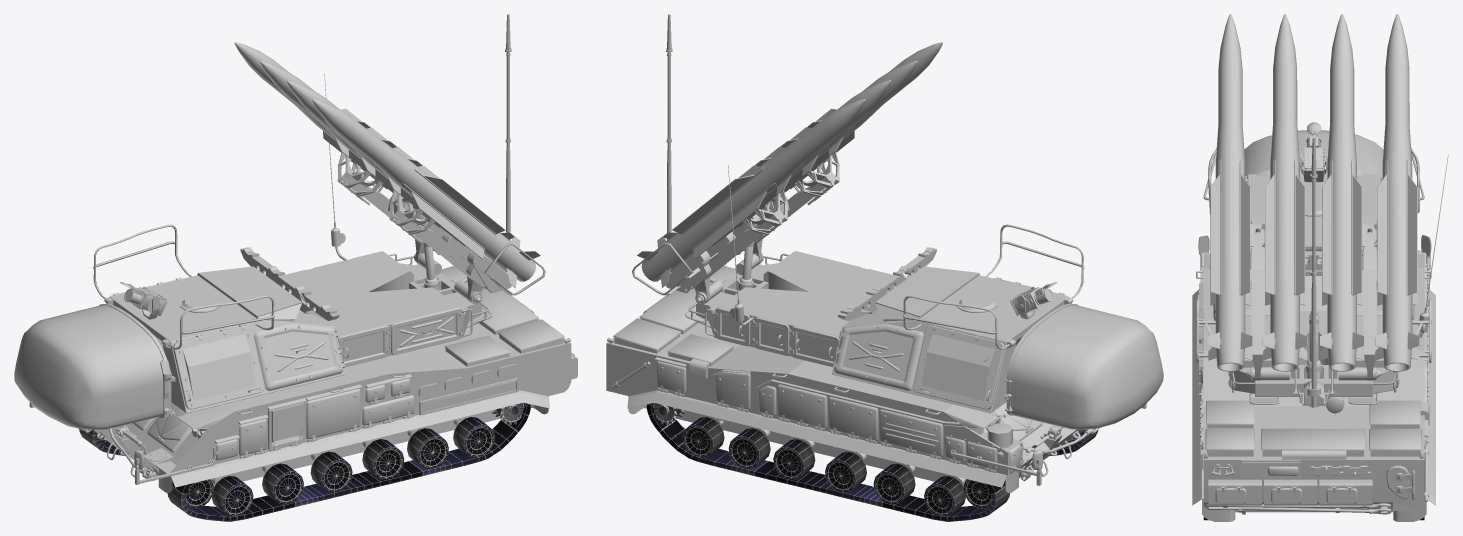
3 views of the same model, side by side, from view 1: azimuth 30°, elevation 25°; view 2: azimuth 150°, elevation 25°; view 3: azimuth 270°, elevation 25° (orthographic). The views are drawn at different scales.
Parts seen in each view (by area): view 1: 1Head, 0Base, 3Rocket_01, 2RocketBody, Gusenitsa, 3Rocket_02, 3Rocket_03, 3Rocket_04, Gusenitsa_Elements6, Gusenitsa_Elements7, Gusenitsa_Elements5, Gusenitsa_Elements8 (+4 smaller); view 2: 1Head, 0Base, 3Rocket_04, 2RocketBody, Gusenitsa, 3Rocket_03, 3Rocket_02, 3Rocket_01, Gusenitsa_Elements15, Gusenitsa_Elements16, Gusenitsa_Elements18, Gusenitsa_Elements17 (+4 smaller); view 3: 0Base, 1Head, 3Rocket_04, 3Rocket_01, 3Rocket_02, 3Rocket_03, 2RocketBody, 4Antenna, 3AntennaBody.
Part boxes in pixels (box(x1,y1,x2,y2)): 1Head: box(14, 73, 492, 429); 0Base: box(29, 266, 577, 492); 3Rocket_01: box(312, 99, 540, 287); 2RocketBody: box(337, 152, 545, 303); Gusenitsa: box(79, 403, 530, 521); 3Rocket_02: box(286, 80, 514, 260); 3Rocket_03: box(260, 61, 426, 217); 3Rocket_04: box(234, 42, 404, 202); Gusenitsa_Elements6: box(310, 451, 352, 492); Gusenitsa_Elements7: box(362, 439, 404, 479); Gusenitsa_Elements5: box(262, 463, 303, 504); Gusenitsa_Elements8: box(407, 428, 448, 469); 1Head: box(685, 165, 1163, 429); 0Base: box(606, 265, 1146, 492); 3Rocket_04: box(637, 99, 865, 287); 2RocketBody: box(632, 152, 840, 303); Gusenitsa: box(646, 403, 1098, 521); 3Rocket_03: box(663, 80, 891, 260); 3Rocket_02: box(751, 60, 917, 217); 3Rocket_01: box(773, 42, 942, 201); Gusenitsa_Elements15: box(873, 463, 915, 504); Gusenitsa_Elements16: box(825, 451, 866, 492); Gusenitsa_Elements18: box(728, 428, 770, 469); Gusenitsa_Elements17: box(773, 439, 815, 479); 0Base: box(1192, 235, 1435, 521); 1Head: box(1203, 122, 1448, 414); 3Rocket_04: box(1375, 14, 1419, 371); 3Rocket_01: box(1208, 14, 1252, 371); 3Rocket_02: box(1262, 14, 1307, 371); 3Rocket_03: box(1320, 14, 1364, 371); 2RocketBody: box(1196, 223, 1431, 395); 4Antenna: box(1307, 137, 1320, 407); 3AntennaBody: box(1298, 381, 1329, 405).
Size of the model in its own units: 7.58 by 5.73 by 3.16.
